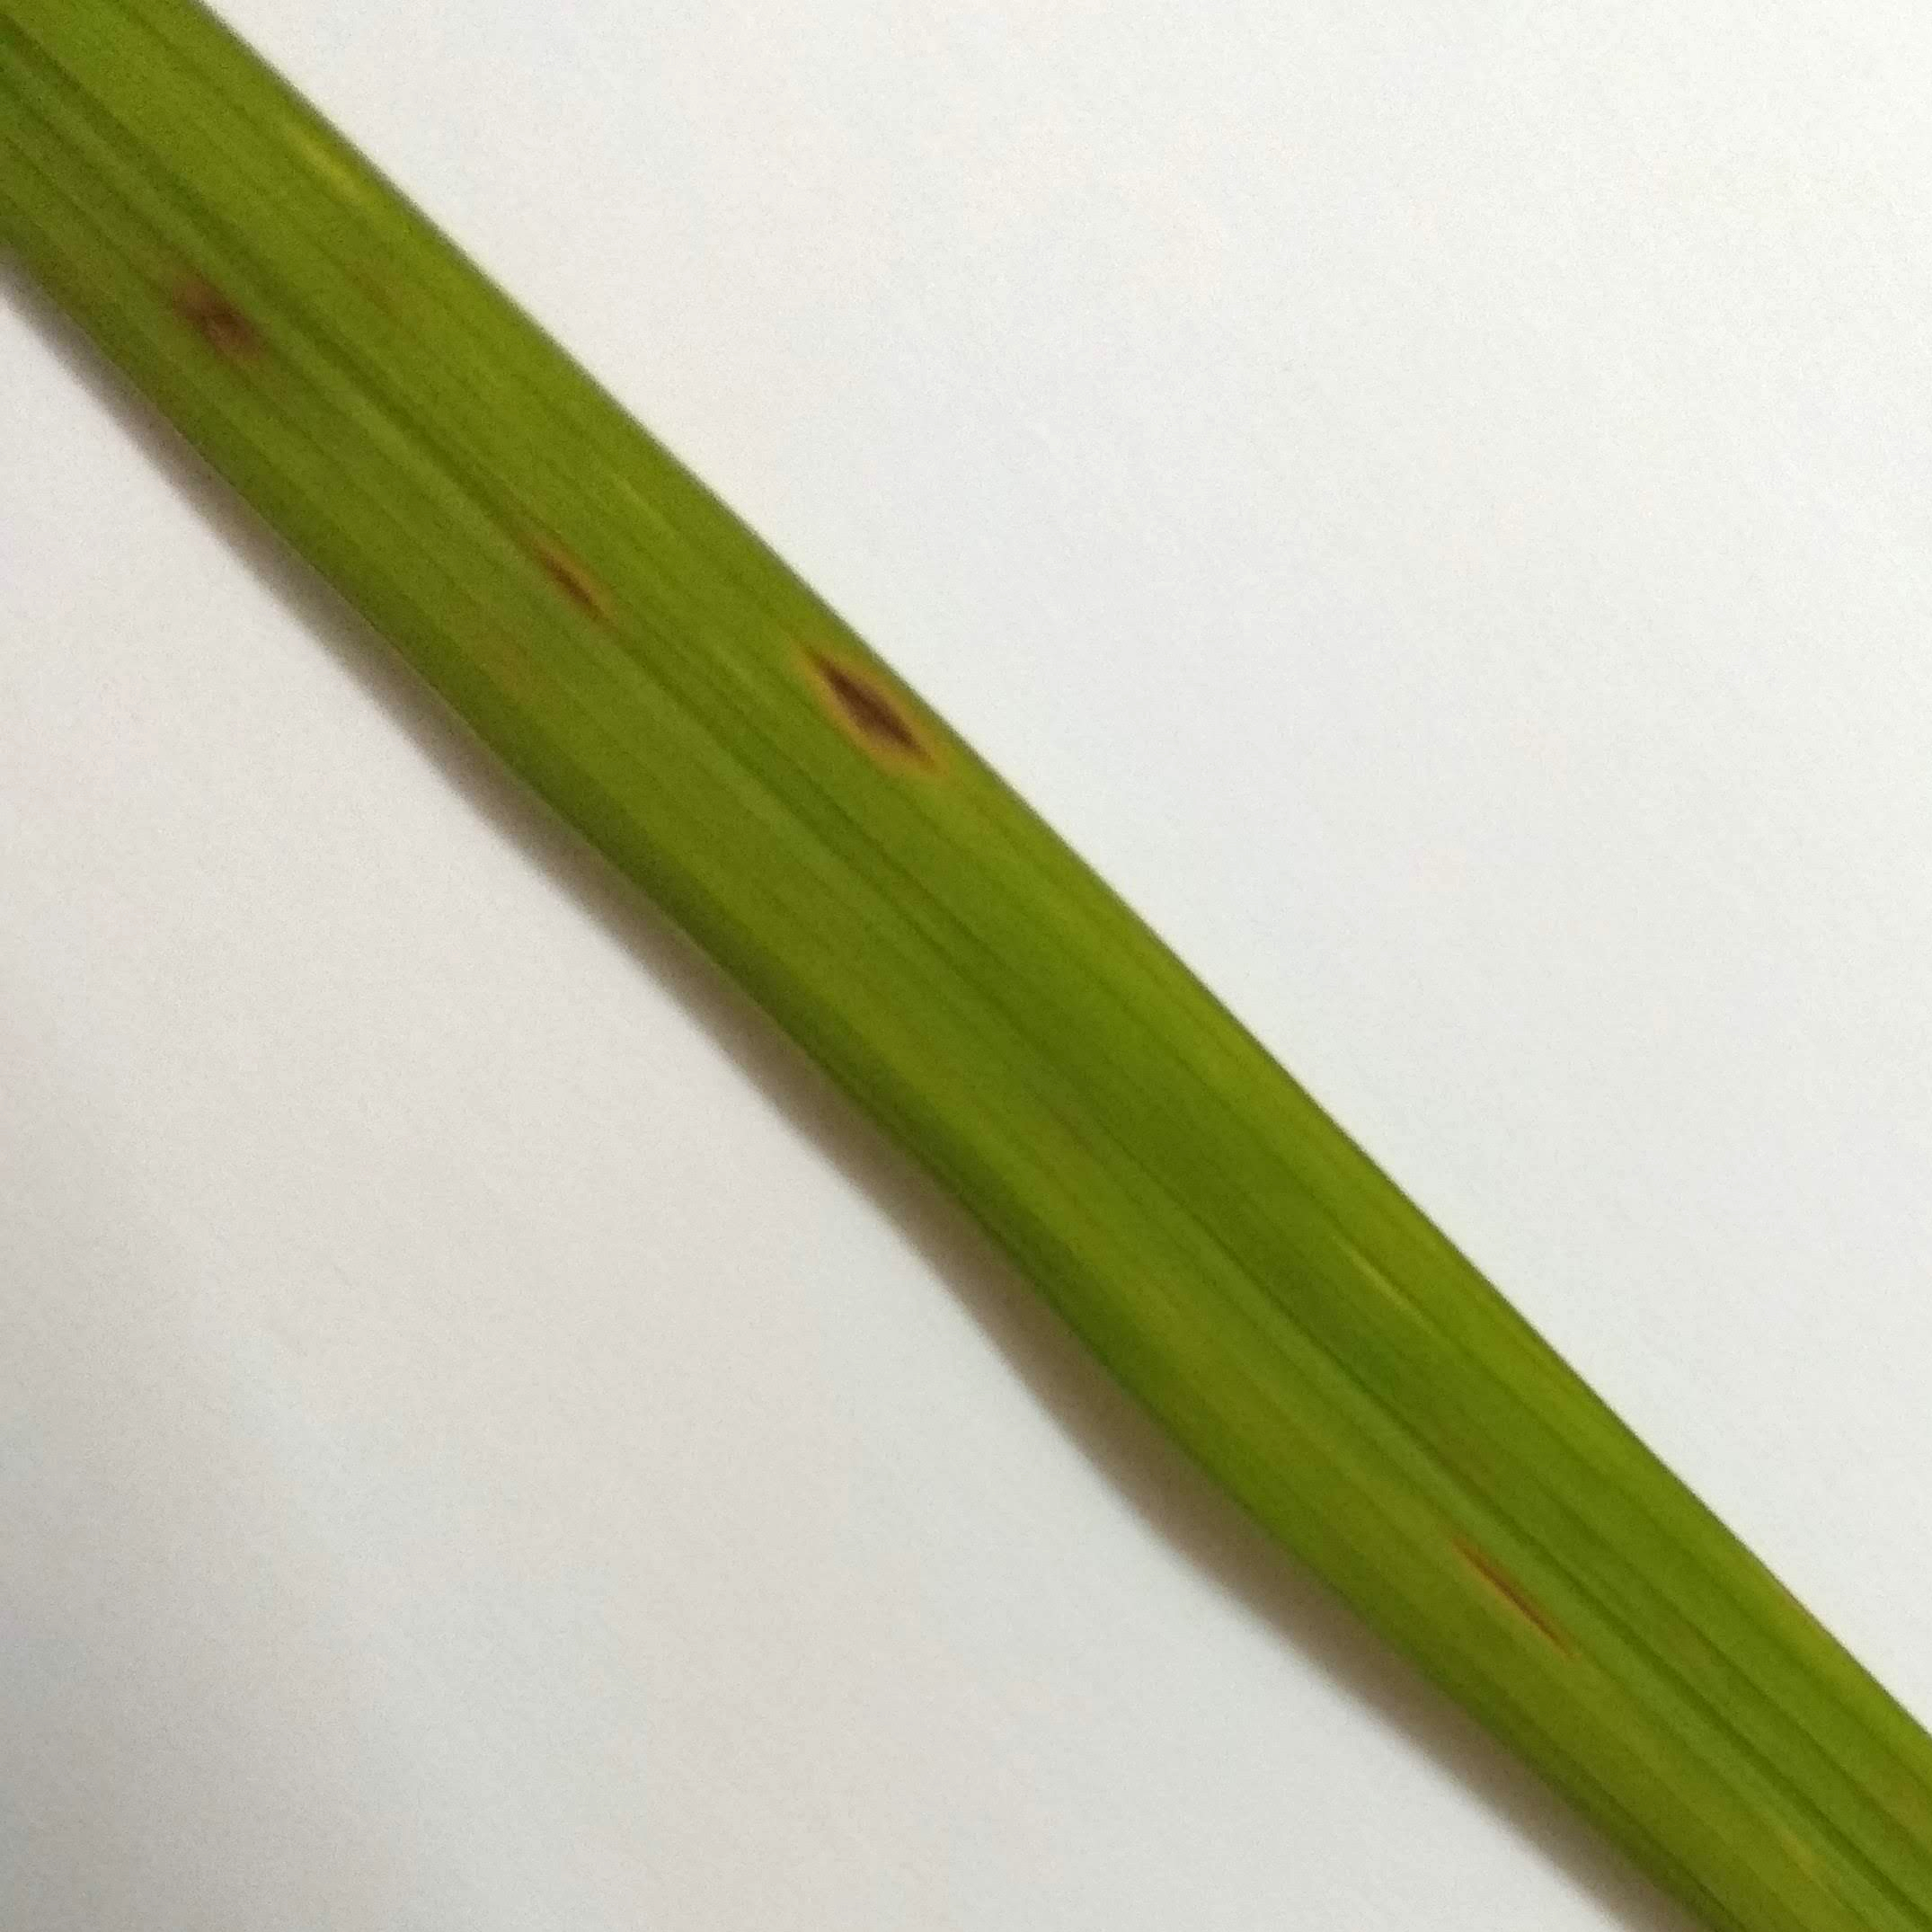brown spot: (754, 612, 964, 800), (1415, 1518, 1587, 1677), (145, 253, 280, 380), (506, 524, 630, 642)
